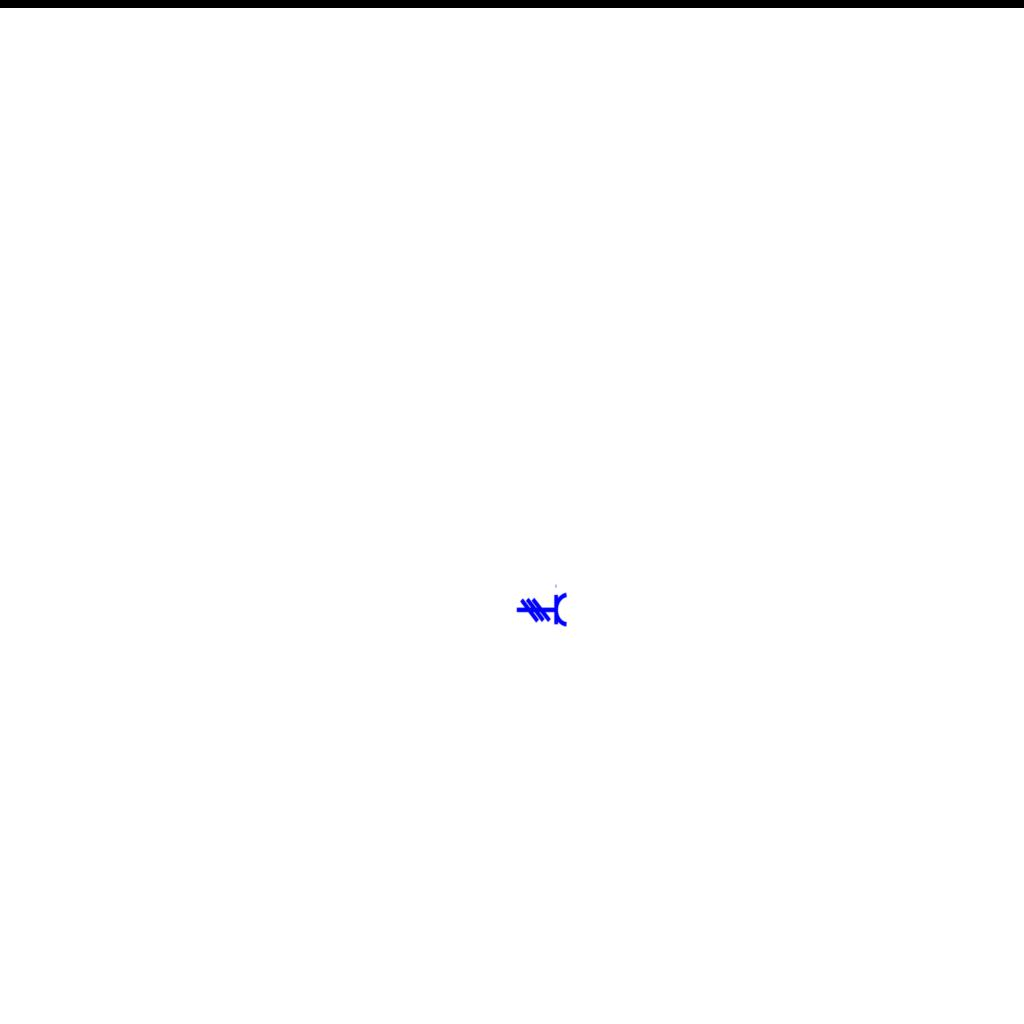CEE_Drehstrom_Steckdose_16_32_A: (516, 583, 568, 628)
